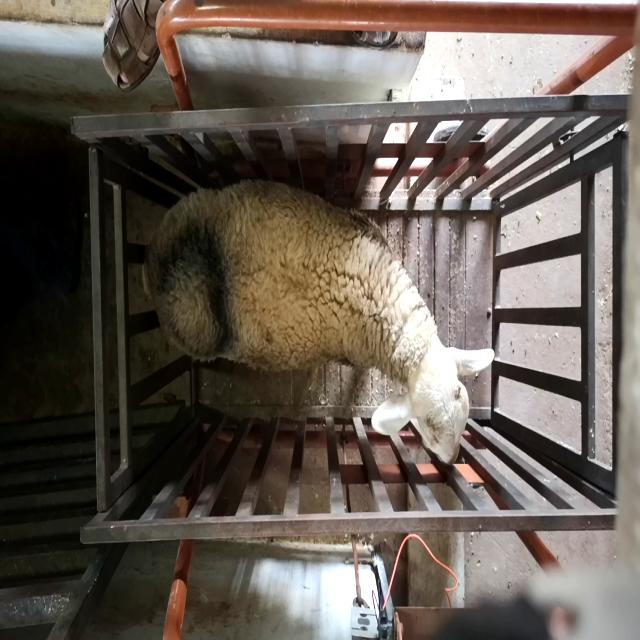sheep: (142, 181, 495, 466)
